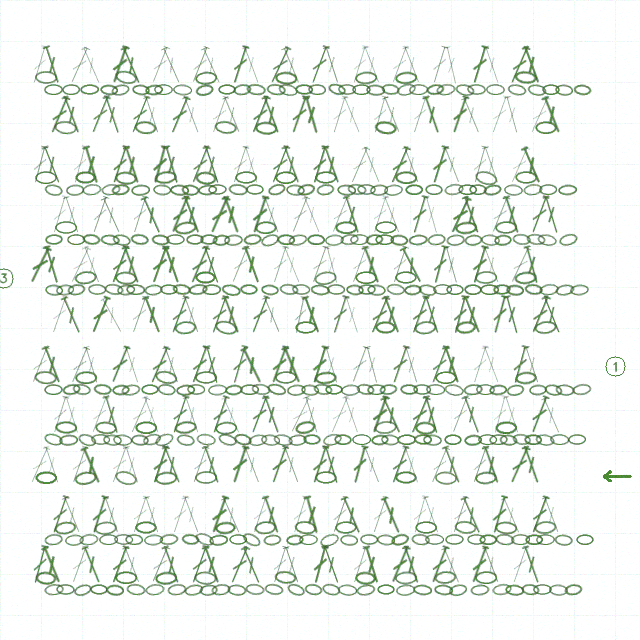chain: (474, 169, 498, 187), (114, 469, 138, 487), (114, 69, 138, 86), (214, 319, 238, 336), (154, 369, 178, 386), (294, 419, 317, 436), (241, 531, 262, 549), (174, 220, 197, 236), (314, 270, 337, 286), (74, 470, 97, 486), (54, 520, 77, 536), (154, 431, 175, 448), (194, 531, 215, 548), (514, 70, 537, 85), (54, 120, 77, 135), (134, 120, 157, 135), (214, 120, 237, 135), (374, 120, 397, 135), (154, 170, 177, 185), (74, 270, 97, 285), (174, 320, 197, 335), (414, 320, 437, 335), (534, 320, 557, 335), (34, 370, 57, 385), (174, 420, 197, 435), (374, 420, 397, 435), (254, 520, 277, 535), (294, 520, 317, 535), (454, 520, 477, 535), (534, 520, 557, 535), (274, 570, 297, 585), (434, 570, 457, 585), (217, 432, 238, 448), (319, 532, 340, 548), (455, 320, 477, 335), (514, 271, 537, 285), (314, 371, 337, 385), (94, 521, 117, 535), (194, 571, 217, 585), (260, 232, 280, 248), (77, 432, 97, 448), (73, 582, 93, 598), (286, 582, 306, 598), (396, 82, 417, 97), (558, 232, 579, 247), (266, 382, 287, 397), (43, 432, 64, 447), (322, 432, 343, 447), (195, 71, 217, 85), (275, 71, 297, 85), (355, 71, 377, 85), (395, 71, 417, 85), (255, 121, 277, 135), (115, 171, 137, 185), (195, 171, 217, 185), (455, 221, 477, 235), (115, 271, 137, 285), (515, 371, 537, 385), (95, 421, 117, 435), (215, 421, 237, 435), (155, 471, 177, 485), (435, 471, 457, 485), (475, 471, 497, 485), (495, 521, 517, 535), (35, 571, 57, 585), (155, 571, 177, 585), (395, 571, 417, 585), (327, 82, 347, 97), (267, 182, 287, 197), (296, 182, 316, 197), (142, 432, 162, 447), (233, 432, 253, 447), (390, 532, 410, 547), (321, 582, 341, 597), (415, 421, 436, 435), (215, 521, 236, 535), (355, 571, 376, 585), (35, 71, 57, 84), (535, 121, 557, 134), (35, 171, 57, 184), (235, 171, 257, 184), (275, 171, 297, 184), (315, 171, 337, 184), (395, 171, 417, 184), (515, 171, 537, 184), (55, 221, 77, 234), (255, 221, 277, 234), (335, 221, 357, 234), (375, 221, 397, 234), (495, 221, 517, 234), (355, 271, 377, 284), (395, 271, 417, 284), (475, 271, 497, 284), (295, 321, 317, 334), (75, 371, 97, 384), (195, 371, 217, 384), (275, 371, 297, 384), (435, 371, 457, 384), (55, 421, 77, 434), (135, 421, 157, 434), (495, 421, 517, 434), (35, 471, 57, 484), (195, 471, 217, 484), (315, 471, 337, 484), (395, 471, 417, 484), (135, 521, 157, 534), (335, 521, 357, 534), (415, 521, 437, 534), (115, 571, 137, 584), (475, 571, 497, 584), (278, 83, 298, 97), (455, 83, 475, 97), (507, 83, 527, 97), (527, 83, 547, 97), (288, 233, 308, 247), (537, 233, 557, 247), (221, 283, 241, 297), (555, 283, 575, 297), (121, 383, 141, 397), (444, 383, 464, 397), (248, 433, 268, 447), (273, 433, 293, 447), (535, 433, 555, 447), (184, 583, 204, 597), (356, 583, 376, 597), (448, 583, 468, 597), (75, 171, 96, 184), (195, 271, 216, 284), (375, 321, 396, 334), (111, 83, 130, 97), (195, 83, 214, 97), (44, 183, 63, 197), (483, 183, 502, 197), (112, 233, 131, 247), (418, 283, 437, 297), (506, 383, 525, 397), (544, 383, 563, 397), (176, 433, 195, 447), (246, 83, 266, 96), (266, 83, 286, 96), (436, 83, 456, 96), (82, 183, 102, 196), (101, 183, 121, 196), (228, 183, 248, 196), (347, 183, 367, 196), (444, 183, 464, 196), (523, 183, 543, 196), (526, 233, 546, 246), (104, 283, 124, 296), (188, 283, 208, 296), (279, 283, 299, 296), (539, 283, 559, 296), (251, 383, 271, 396), (313, 383, 333, 396), (463, 383, 483, 396), (572, 383, 592, 396), (196, 433, 216, 446), (79, 533, 99, 546), (159, 533, 179, 546), (495, 533, 515, 546), (44, 583, 64, 596), (126, 583, 146, 596), (145, 583, 165, 596), (167, 583, 187, 596), (211, 583, 231, 596), (245, 583, 265, 596), (264, 583, 284, 596), (492, 583, 512, 596), (233, 83, 252, 96), (381, 83, 400, 96), (426, 83, 445, 96), (111, 183, 130, 196), (316, 183, 335, 196), (82, 233, 101, 246), (130, 233, 149, 246), (243, 233, 262, 246), (340, 233, 359, 246), (365, 233, 384, 246), (427, 233, 446, 246), (512, 233, 531, 246), (67, 283, 86, 296), (172, 283, 191, 296), (386, 283, 405, 296), (524, 283, 543, 296), (62, 383, 81, 396), (72, 383, 91, 396), (93, 383, 112, 396), (157, 383, 176, 396), (356, 383, 375, 396), (379, 383, 398, 396), (512, 433, 531, 446), (44, 533, 63, 546), (181, 533, 200, 546), (411, 533, 430, 546), (304, 583, 323, 596), (521, 583, 540, 596), (564, 583, 583, 596), (100, 234, 120, 246), (408, 234, 428, 246), (310, 284, 330, 296), (555, 384, 575, 396), (227, 584, 247, 596), (470, 584, 490, 596), (173, 84, 192, 96), (366, 84, 385, 96), (573, 84, 592, 96), (131, 184, 150, 196), (170, 184, 189, 196), (181, 184, 200, 196), (198, 184, 217, 196), (286, 184, 305, 196), (337, 184, 356, 196), (384, 184, 403, 196), (504, 184, 523, 196), (558, 184, 577, 196), (151, 234, 170, 246), (212, 234, 231, 246), (224, 234, 243, 246), (325, 234, 344, 246), (446, 234, 465, 246), (464, 234, 483, 246), (481, 234, 500, 246), (144, 284, 163, 296), (367, 284, 386, 296), (570, 284, 589, 296), (176, 384, 195, 396), (208, 384, 227, 396), (287, 384, 306, 396), (341, 384, 360, 396), (59, 434, 78, 446), (103, 434, 122, 446), (113, 434, 132, 446), (261, 434, 280, 446), (288, 434, 307, 446), (423, 434, 442, 446), (499, 434, 518, 446), (65, 534, 84, 546), (144, 534, 163, 546), (209, 534, 228, 546), (263, 534, 282, 546), (554, 534, 573, 546), (199, 584, 218, 596), (338, 584, 357, 596), (396, 584, 415, 596), (413, 584, 432, 596), (434, 584, 453, 596), (505, 584, 524, 596), (549, 584, 568, 596), (100, 84, 118, 96), (132, 84, 150, 96), (145, 84, 163, 96), (555, 84, 573, 96), (66, 184, 84, 196), (153, 184, 171, 196), (370, 184, 388, 196), (390, 234, 408, 246), (494, 234, 512, 246), (45, 284, 63, 296), (56, 284, 74, 296), (117, 284, 135, 296), (261, 284, 279, 296), (346, 284, 364, 296), (404, 284, 422, 296), (506, 284, 524, 296), (112, 384, 130, 396), (225, 384, 243, 396), (301, 384, 319, 396), (489, 384, 507, 396), (529, 384, 547, 396), (131, 434, 149, 446), (371, 434, 389, 446), (381, 434, 399, 446), (464, 434, 482, 446), (286, 534, 304, 546), (340, 534, 358, 546), (377, 534, 395, 546), (106, 584, 124, 596), (44, 84, 63, 95), (80, 84, 99, 95), (154, 84, 173, 95), (352, 84, 371, 95), (409, 84, 428, 95), (467, 84, 486, 95), (486, 84, 505, 95), (208, 184, 227, 195), (357, 184, 376, 195), (458, 184, 477, 195), (166, 234, 185, 245), (350, 234, 369, 245), (375, 234, 394, 245), (126, 284, 145, 295), (202, 284, 221, 295), (433, 284, 452, 295), (480, 284, 499, 295), (44, 384, 63, 395), (240, 384, 259, 395), (367, 384, 386, 395), (426, 384, 445, 395), (476, 384, 495, 395), (91, 434, 110, 445), (352, 434, 371, 445), (397, 434, 416, 445), (478, 434, 497, 445), (489, 434, 508, 445), (550, 434, 569, 445), (99, 534, 118, 545), (114, 534, 133, 545), (299, 534, 318, 545), (425, 534, 444, 545), (445, 534, 464, 545), (467, 534, 486, 545), (511, 534, 530, 545), (536, 534, 555, 545), (56, 584, 75, 595), (533, 584, 552, 595), (62, 84, 80, 95), (218, 84, 236, 95), (295, 84, 313, 95), (308, 84, 326, 95), (338, 84, 356, 95), (542, 84, 560, 95), (246, 184, 264, 195), (405, 184, 423, 195), (425, 184, 443, 195), (469, 184, 487, 195), (539, 184, 557, 195), (45, 234, 63, 245), (67, 234, 85, 245), (186, 234, 204, 245), (200, 234, 218, 245), (277, 234, 295, 245), (307, 234, 325, 245), (88, 284, 106, 295), (160, 284, 178, 295), (240, 284, 258, 295), (292, 284, 310, 295), (327, 284, 345, 295), (358, 284, 376, 295), (446, 284, 464, 295), (464, 284, 482, 295), (493, 284, 511, 295), (141, 384, 159, 395), (187, 384, 205, 395), (325, 384, 343, 395), (400, 384, 418, 395), (413, 384, 431, 395), (303, 434, 321, 445), (334, 434, 352, 445), (414, 434, 432, 445), (444, 434, 462, 445), (524, 434, 542, 445), (568, 434, 586, 445), (125, 534, 143, 545), (229, 534, 247, 545), (360, 534, 378, 545), (479, 534, 497, 545), (525, 534, 543, 545), (576, 534, 594, 545), (90, 584, 108, 595), (377, 584, 395, 595)
double: (97, 295, 127, 335), (397, 245, 426, 285), (266, 45, 294, 85), (446, 195, 474, 235), (26, 245, 54, 285), (66, 245, 94, 285), (506, 245, 534, 285), (238, 345, 266, 385), (286, 395, 314, 435), (66, 45, 93, 85), (78, 45, 105, 85), (118, 45, 145, 85), (158, 45, 185, 85), (198, 45, 225, 85), (278, 45, 305, 85), (506, 45, 533, 85), (46, 95, 73, 135), (166, 95, 193, 135), (458, 95, 485, 135), (526, 95, 553, 135), (346, 145, 373, 185), (386, 145, 413, 185), (506, 145, 533, 185), (518, 145, 545, 185), (98, 195, 125, 235), (138, 195, 165, 235), (206, 195, 233, 235), (186, 245, 213, 285), (58, 295, 85, 335), (366, 295, 393, 335), (66, 345, 93, 385), (146, 345, 173, 385), (126, 395, 153, 435), (218, 395, 245, 435), (326, 395, 353, 435), (378, 395, 405, 435), (406, 395, 433, 435), (538, 395, 565, 435), (26, 445, 53, 485), (78, 445, 105, 485), (426, 445, 453, 485), (506, 445, 533, 485), (218, 495, 245, 535), (338, 495, 365, 535), (378, 495, 405, 535), (458, 495, 485, 535), (498, 495, 525, 535), (226, 545, 253, 585), (238, 545, 265, 585), (438, 545, 465, 585), (147, 44, 173, 85), (187, 44, 213, 85), (359, 44, 385, 85), (399, 44, 425, 85), (87, 94, 113, 135), (127, 94, 153, 135), (219, 94, 245, 135), (247, 94, 273, 135), (339, 94, 365, 135), (379, 94, 405, 135), (539, 94, 565, 135), (39, 144, 65, 185), (187, 144, 213, 185), (267, 144, 293, 185), (359, 144, 385, 185), (439, 144, 465, 185), (167, 194, 193, 235), (287, 194, 313, 235), (299, 194, 325, 235), (327, 194, 353, 235), (379, 194, 405, 235), (487, 194, 513, 235), (79, 244, 105, 285), (227, 244, 253, 285), (279, 244, 305, 285), (87, 294, 113, 335), (139, 294, 165, 335), (247, 294, 273, 335), (259, 294, 285, 335), (459, 294, 485, 335), (527, 294, 553, 335), (539, 294, 565, 335), (27, 344, 53, 385), (39, 344, 65, 385), (107, 344, 133, 385), (279, 344, 305, 385), (447, 394, 473, 435), (159, 444, 185, 485), (239, 444, 265, 485), (359, 444, 385, 485), (439, 444, 465, 485), (59, 494, 85, 535), (39, 544, 65, 585), (79, 544, 105, 585), (119, 544, 145, 585), (147, 544, 173, 585), (387, 544, 413, 585), (239, 44, 264, 85), (307, 44, 332, 85), (387, 44, 412, 85), (519, 44, 544, 85), (59, 94, 84, 135), (179, 94, 204, 135), (207, 94, 232, 135), (259, 94, 284, 135), (287, 94, 312, 135), (487, 94, 512, 135), (279, 144, 304, 185), (319, 144, 344, 185), (399, 144, 424, 185), (479, 144, 504, 185), (179, 194, 204, 235), (219, 194, 244, 235), (259, 194, 284, 235), (459, 194, 484, 235), (527, 194, 552, 235), (107, 244, 132, 285), (119, 244, 144, 285), (147, 244, 172, 285), (159, 244, 184, 285), (199, 244, 224, 285), (239, 244, 264, 285), (307, 244, 332, 285), (347, 244, 372, 285), (359, 244, 384, 285), (479, 244, 504, 285), (47, 294, 72, 335), (127, 294, 152, 335), (167, 294, 192, 335), (179, 294, 204, 335), (207, 294, 232, 335), (219, 294, 244, 335), (299, 294, 324, 335), (379, 294, 404, 335), (407, 294, 432, 335), (159, 344, 184, 385), (187, 344, 212, 385), (267, 344, 292, 385), (347, 344, 372, 385), (427, 344, 452, 385), (439, 344, 464, 385), (479, 344, 504, 385), (87, 394, 112, 435), (139, 394, 164, 435), (247, 394, 272, 435), (259, 394, 284, 435), (339, 394, 364, 435), (459, 394, 484, 435), (527, 394, 552, 435), (67, 444, 92, 485), (107, 444, 132, 485), (199, 444, 224, 485), (267, 444, 292, 485), (279, 444, 304, 485), (387, 444, 412, 485), (399, 444, 424, 485), (479, 444, 504, 485), (519, 444, 544, 485), (99, 494, 124, 535), (179, 494, 204, 535), (207, 494, 232, 535), (259, 494, 284, 535), (419, 494, 444, 535), (527, 494, 552, 535), (539, 494, 564, 535), (67, 544, 92, 585), (107, 544, 132, 585), (159, 544, 184, 585), (187, 544, 212, 585), (199, 544, 224, 585), (319, 544, 344, 585), (399, 544, 424, 585), (427, 544, 452, 585), (467, 544, 492, 585), (479, 544, 504, 585), (519, 544, 544, 585), (40, 44, 64, 85), (108, 44, 132, 85), (228, 44, 252, 85), (320, 44, 344, 85), (480, 44, 504, 85), (100, 94, 124, 135), (140, 94, 164, 135), (408, 94, 432, 135), (420, 94, 444, 135), (448, 94, 472, 135), (108, 144, 132, 185), (120, 144, 144, 185), (200, 144, 224, 185), (228, 144, 252, 185), (60, 194, 84, 235), (88, 194, 112, 235), (128, 194, 152, 235), (248, 194, 272, 235), (340, 194, 364, 235), (368, 194, 392, 235), (500, 194, 524, 235), (268, 244, 292, 285), (388, 244, 412, 285), (328, 294, 352, 335), (340, 294, 364, 335), (420, 294, 444, 335), (120, 344, 144, 385), (388, 344, 412, 385), (468, 344, 492, 385), (520, 344, 544, 385), (48, 394, 72, 435), (60, 394, 84, 435), (168, 394, 192, 435), (180, 394, 204, 435), (208, 394, 232, 435), (368, 394, 392, 435), (500, 394, 524, 435), (40, 444, 64, 485), (120, 444, 144, 485), (148, 444, 172, 485), (188, 444, 212, 485), (228, 444, 252, 485), (308, 444, 332, 485), (468, 444, 492, 485), (48, 494, 72, 535), (128, 494, 152, 535), (140, 494, 164, 535), (168, 494, 192, 535), (248, 494, 272, 535), (288, 494, 312, 535), (328, 494, 352, 535), (368, 494, 392, 535), (448, 494, 472, 535), (268, 544, 292, 585), (280, 544, 304, 585), (348, 544, 372, 585), (508, 544, 532, 585), (28, 44, 51, 85), (348, 44, 371, 85), (428, 44, 451, 85), (468, 44, 491, 85), (300, 94, 323, 135), (328, 94, 351, 135), (80, 144, 103, 185), (160, 144, 183, 185), (240, 144, 263, 185), (308, 144, 331, 185), (428, 144, 451, 185), (48, 194, 71, 235), (408, 194, 431, 235), (420, 194, 443, 235), (540, 194, 563, 235), (40, 244, 63, 285), (440, 244, 463, 285), (468, 244, 491, 285), (80, 344, 103, 385), (228, 344, 251, 385), (308, 344, 331, 385), (320, 344, 343, 385), (400, 344, 423, 385), (100, 394, 123, 435), (300, 394, 323, 435), (420, 394, 443, 435), (320, 444, 343, 485), (88, 494, 111, 535), (488, 494, 511, 535), (360, 544, 383, 585), (369, 94, 391, 135), (501, 94, 523, 135), (29, 144, 51, 185), (69, 144, 91, 185), (149, 144, 171, 185), (469, 144, 491, 185), (321, 244, 343, 285), (429, 244, 451, 285), (521, 244, 543, 285), (449, 294, 471, 335), (489, 294, 511, 335), (501, 294, 523, 335), (201, 344, 223, 385), (361, 344, 383, 385), (509, 344, 531, 385), (489, 394, 511, 435), (349, 444, 371, 485), (301, 494, 323, 535), (409, 494, 431, 535), (29, 544, 51, 585), (309, 544, 331, 585), (441, 45, 462, 85), (290, 295, 310, 335)
noise: (603, 354, 628, 379), (600, 470, 632, 482), (0, 266, 15, 290)
